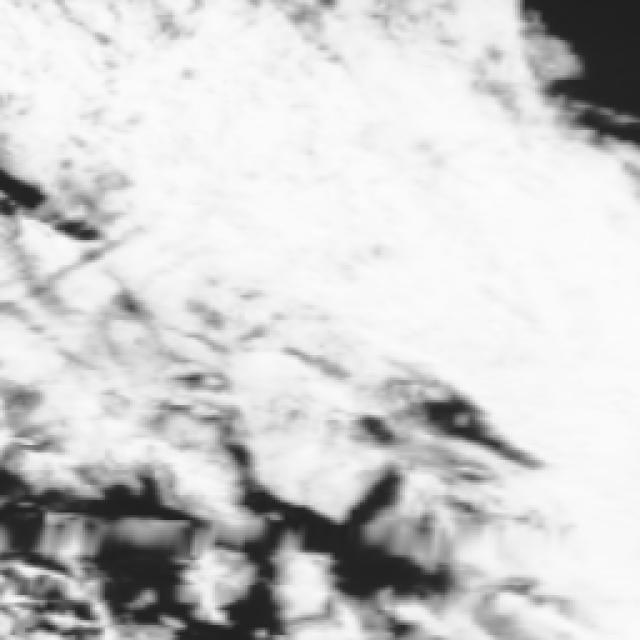CB: (180, 102, 498, 284), (484, 183, 622, 404), (575, 220, 640, 596)
